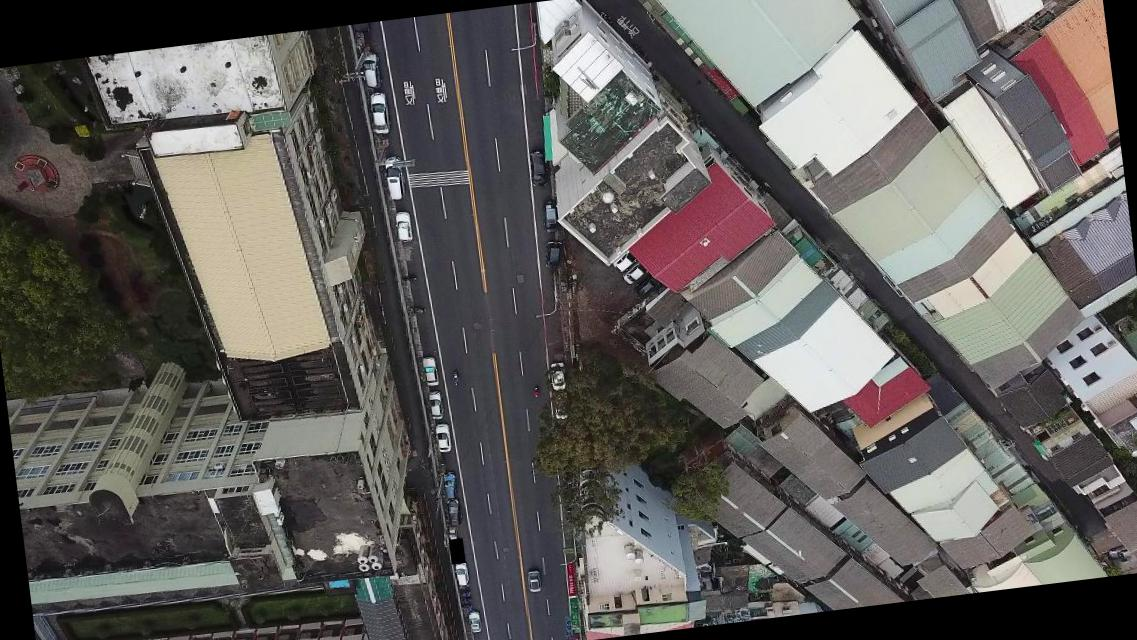vehicle: (382, 154, 406, 203), (528, 148, 552, 190), (368, 90, 390, 134), (358, 50, 382, 90), (391, 208, 414, 244), (540, 238, 564, 270), (618, 262, 648, 286), (442, 496, 464, 528), (548, 358, 568, 392), (538, 200, 558, 234), (434, 419, 452, 454), (609, 250, 637, 272), (426, 388, 444, 421), (421, 354, 439, 386), (634, 274, 660, 296), (442, 470, 458, 499), (454, 556, 470, 584), (523, 570, 541, 594), (468, 608, 482, 633)
